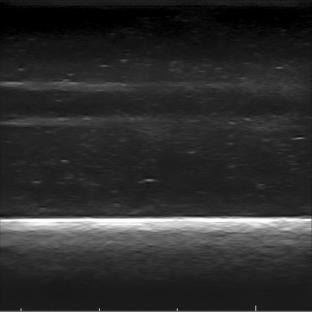vessel: (0, 80, 59, 129)
